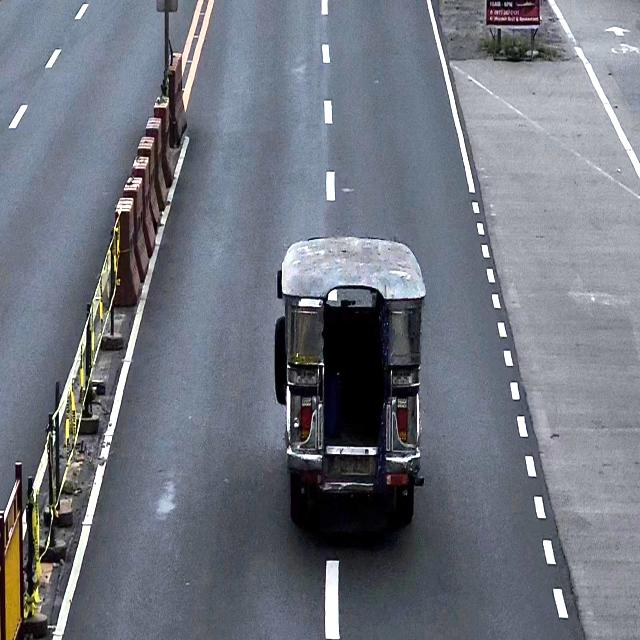Jeep: (274, 234, 426, 530)
License-Plate: (335, 455, 371, 477)
